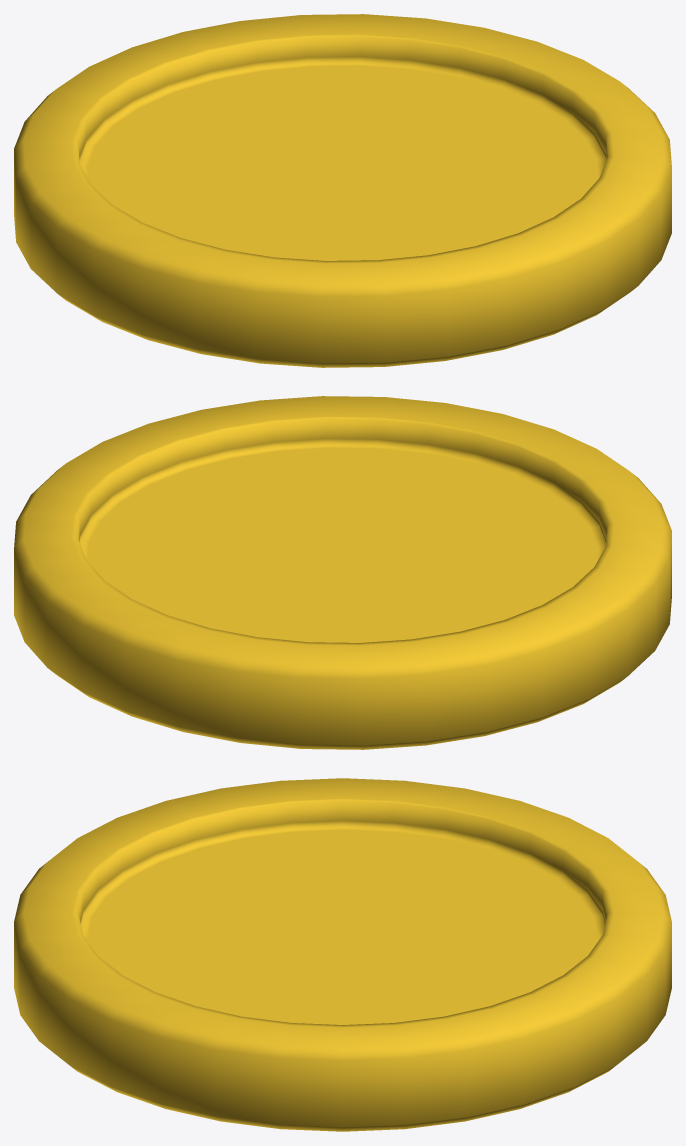
File: Coin.glb
The picture shows the model from 3 angles, top to bottom: view 1: azimuth 30°, elevation 25°; view 2: azimuth 150°, elevation 25°; view 3: azimuth 270°, elevation 25°; orthographic projection.
Parts seen in each view (by area): view 1: Coin; view 2: Coin; view 3: Coin.
Part boxes in pixels (x1,y1,x2,y2): Coin: (14,14,671,367); Coin: (14,396,671,749); Coin: (14,778,671,1131).
Bounding box in the file's own units: 0.135 × 0.019 × 0.135.
